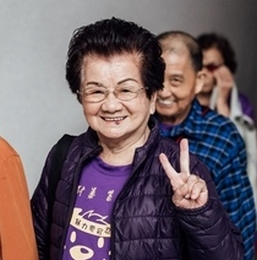v_s: (155, 137, 211, 209)
